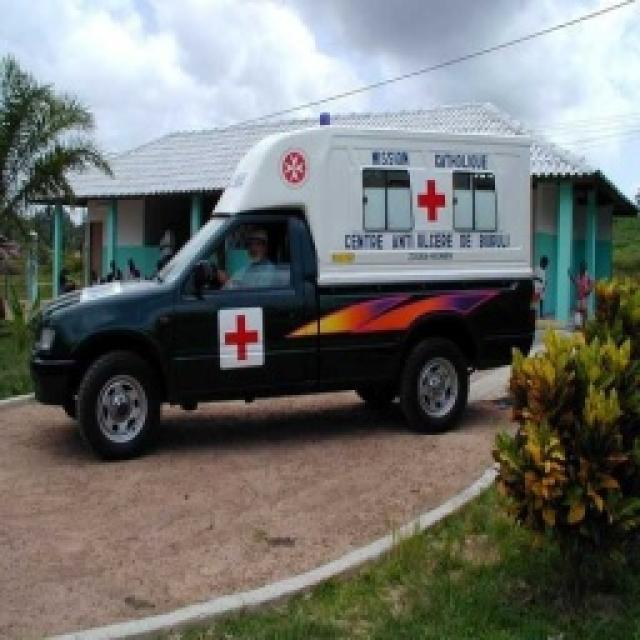ambulance: (25, 118, 533, 450)
